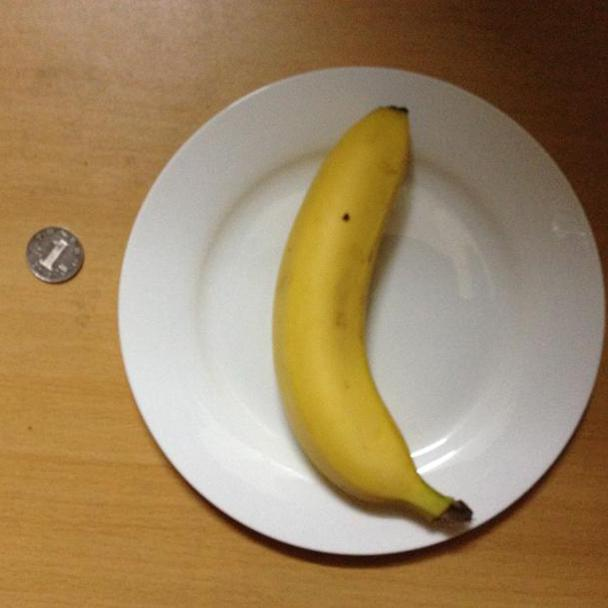banana: (269, 99, 478, 535)
